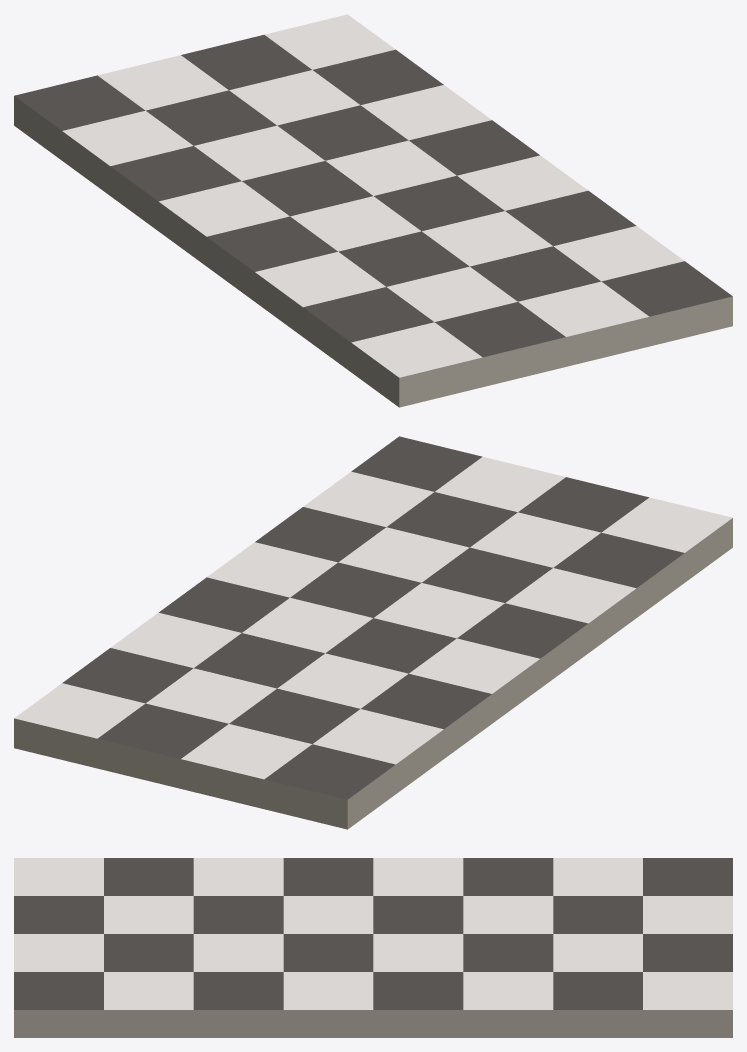
File: Floor_19.fbx
3 renders of one model, top to bottom at view 1: azimuth 30°, elevation 25°; view 2: azimuth 150°, elevation 25°; view 3: azimuth 270°, elevation 25°, orthographic. The views are drawn at different scales.
Parts seen in each view (by area): view 1: Floor_19; view 2: Floor_19; view 3: Floor_19.
Boxes of the visible parts, x1,y1,x2,y2 form: Floor_19: (14,14,732,407); Floor_19: (14,436,732,829); Floor_19: (14,858,732,1037).
Bounding box in the file's own units: 130 × 11.07 × 259.
